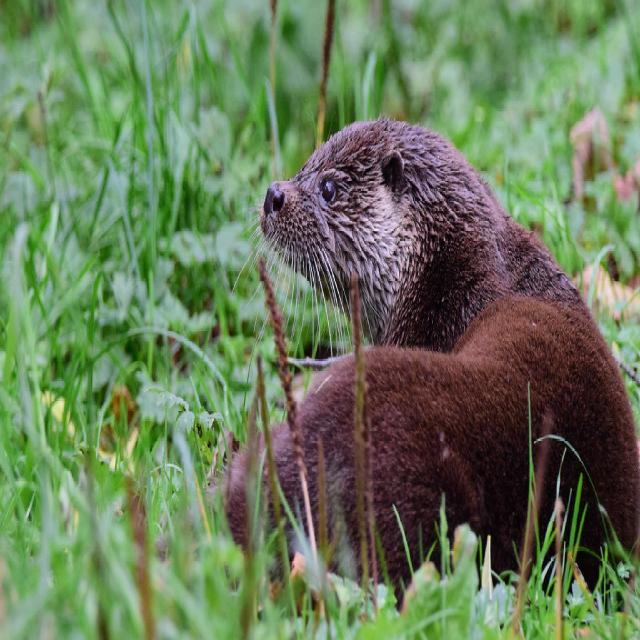otter: (243, 119, 640, 584)
